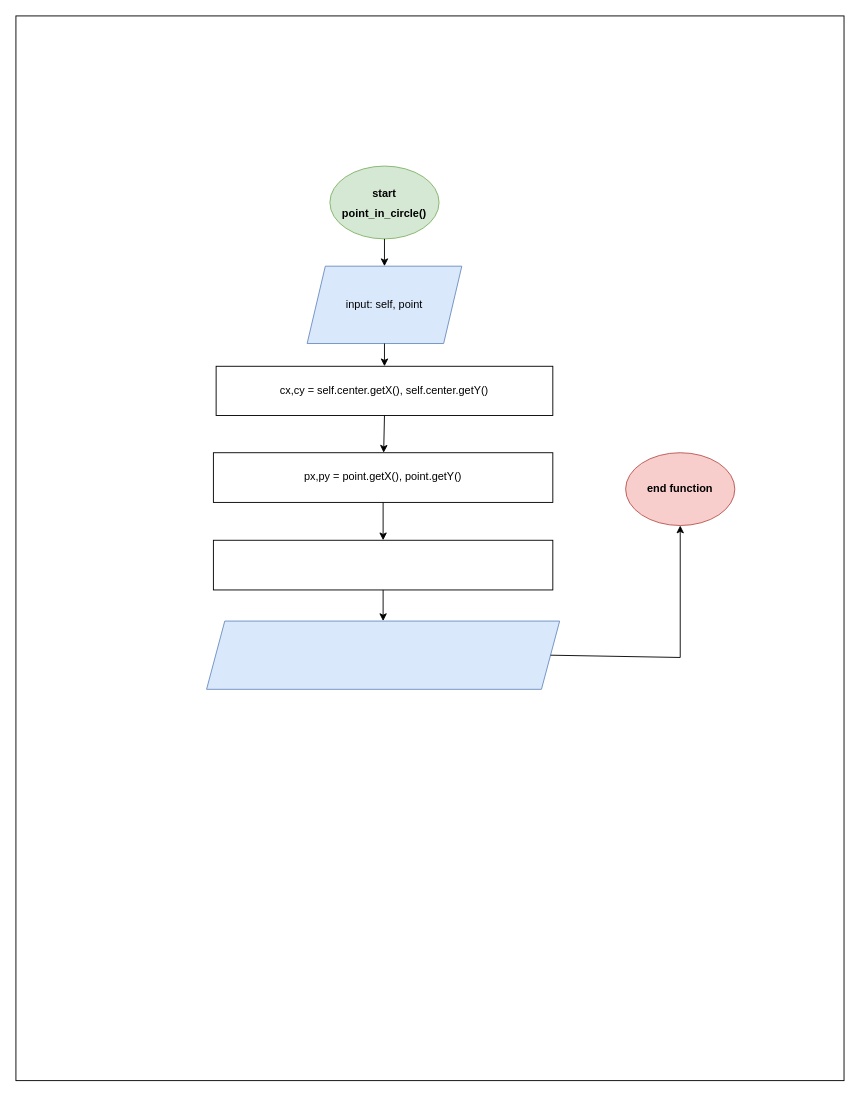
Some shapes in this 860 by 1097 pixel diagram are drawn without their labels. Here are the shapes that lost their labels. From the top down, the centre of each, then its label:
At pixel 382 564: "distance = math.sqrt((px - cx)**2 + (py - cy)**2)".
At pixel 383 654: "output: return (distance <= self.radius)".
